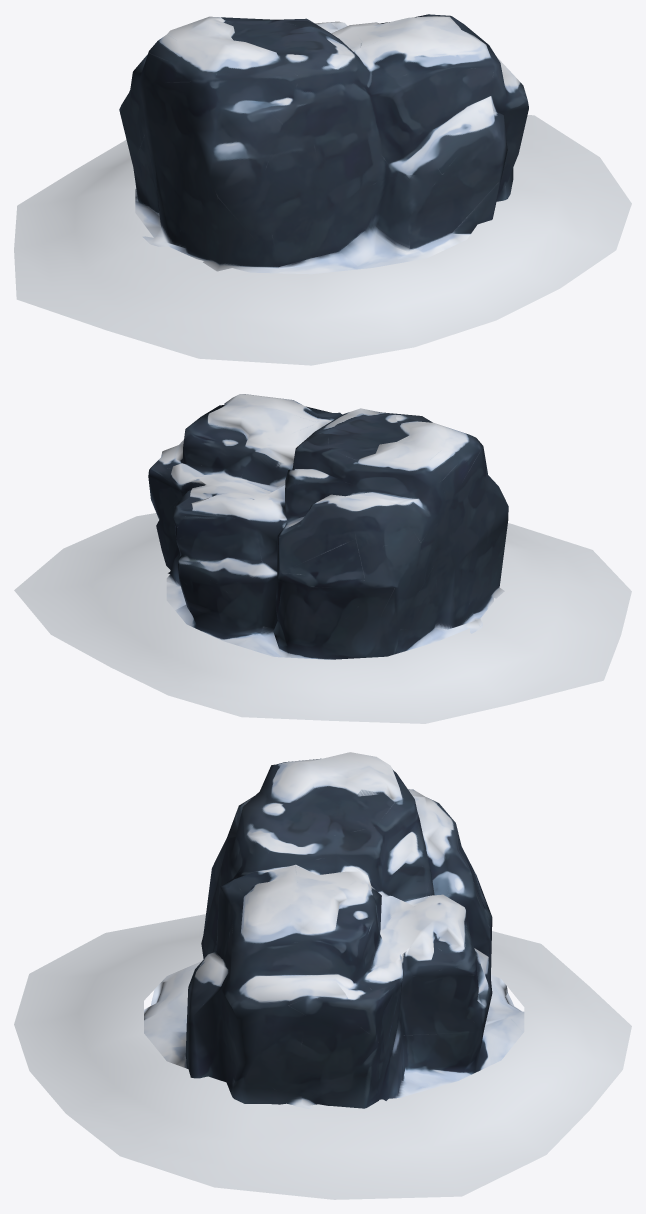
The model's file is SKI_OBS_Rock_B-DW6WyQMw.glb.
The picture shows the model from 3 angles, top to bottom: view 1: azimuth 30°, elevation 25°; view 2: azimuth 150°, elevation 25°; view 3: azimuth 270°, elevation 25°; orthographic projection. The views are drawn at different scales.
Parts seen in each view (by area): view 1: SKI_OBS_Rock_B; view 2: SKI_OBS_Rock_B; view 3: SKI_OBS_Rock_B.
Boxes of the visible parts, box(x1,y1,x2,y2) form: SKI_OBS_Rock_B: box(14, 14, 631, 365); SKI_OBS_Rock_B: box(14, 394, 631, 723); SKI_OBS_Rock_B: box(14, 752, 631, 1199).
Bounding box in the file's own units: 2.25 × 0.8 × 1.92.
Materials: 1 (1 with a texture image).
